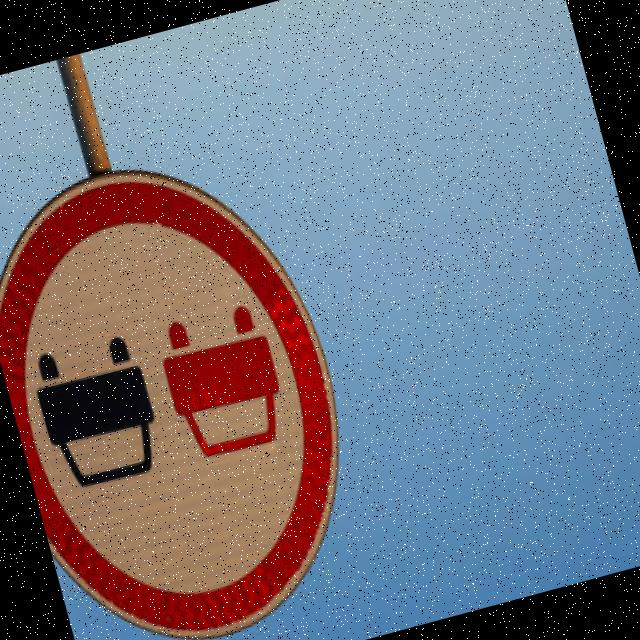no_passing: (0, 117, 402, 640)
